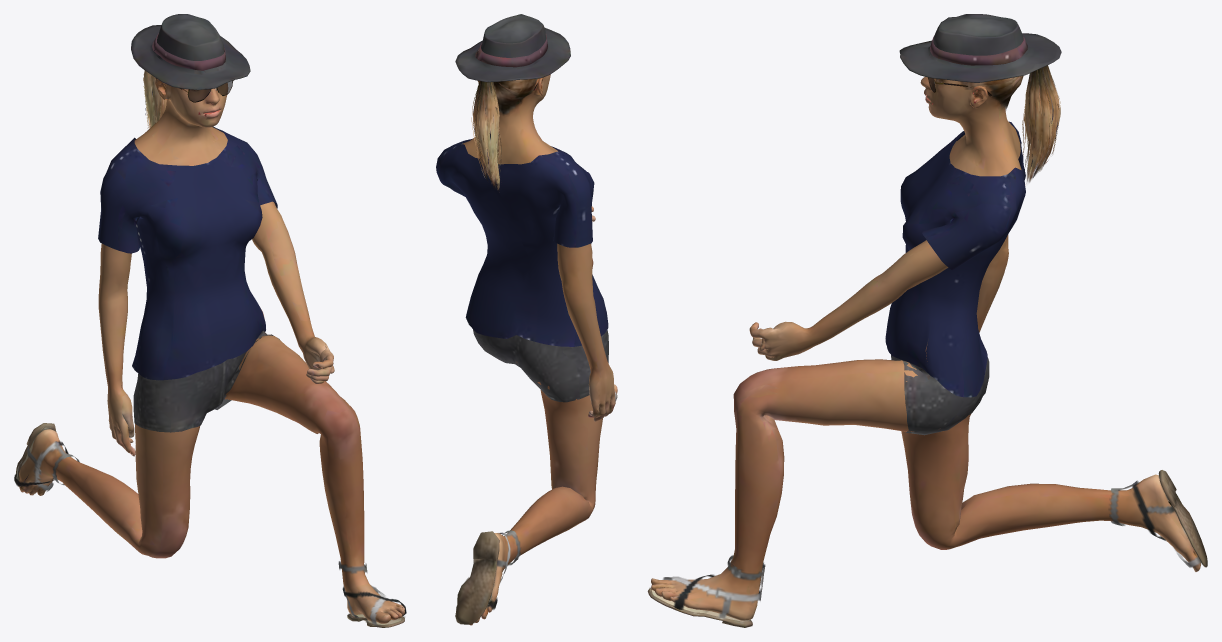
The picture shows the model from 3 angles, left to right: view 1: azimuth 30°, elevation 25°; view 2: azimuth 150°, elevation 25°; view 3: azimuth 270°, elevation 25°; orthographic projection. The views are drawn at different scales.
Visible parts, largest first — view 1: p00698; view 2: p00698; view 3: p00698.
Part boxes in pixels (left/top/right/bottom): p00698: left=14, top=14, right=406, bottom=627; p00698: left=436, top=14, right=617, bottom=625; p00698: left=647, top=14, right=1207, bottom=627.
Size of the model in its own units: 0.3988 by 1.22 by 1.07.
Materials: 1 (1 with a texture image).
